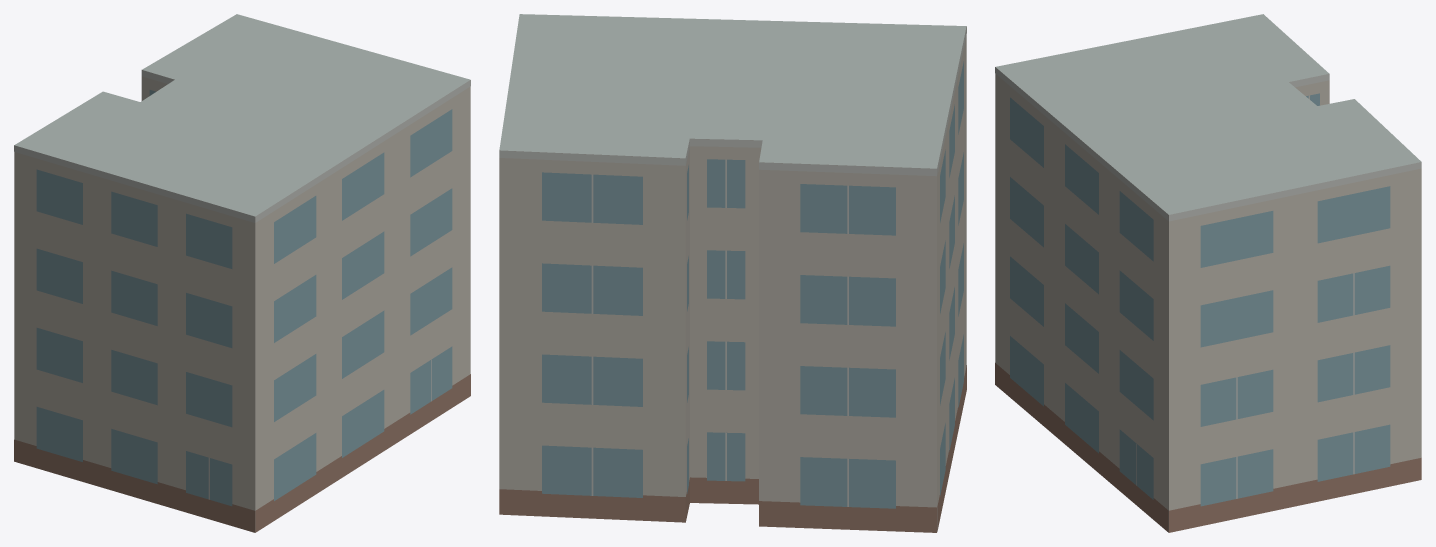
File: survey-upis-33023695.glb
3 views of the same model, side by side, from view 1: azimuth 30°, elevation 25°; view 2: azimuth 150°, elevation 25°; view 3: azimuth 270°, elevation 25° (orthographic). The views are drawn at different scales.
Parts seen in each view (by area): view 1: survey-upis-33023695.tmp; view 2: survey-upis-33023695.tmp; view 3: survey-upis-33023695.tmp.
Boxes of the visible parts, box(x1,y1,x2,y2) form: survey-upis-33023695.tmp: box(14, 14, 470, 532); survey-upis-33023695.tmp: box(499, 14, 966, 532); survey-upis-33023695.tmp: box(995, 14, 1421, 532).
Size of the model in its own units: 16.07 by 11.85 by 14.42.
